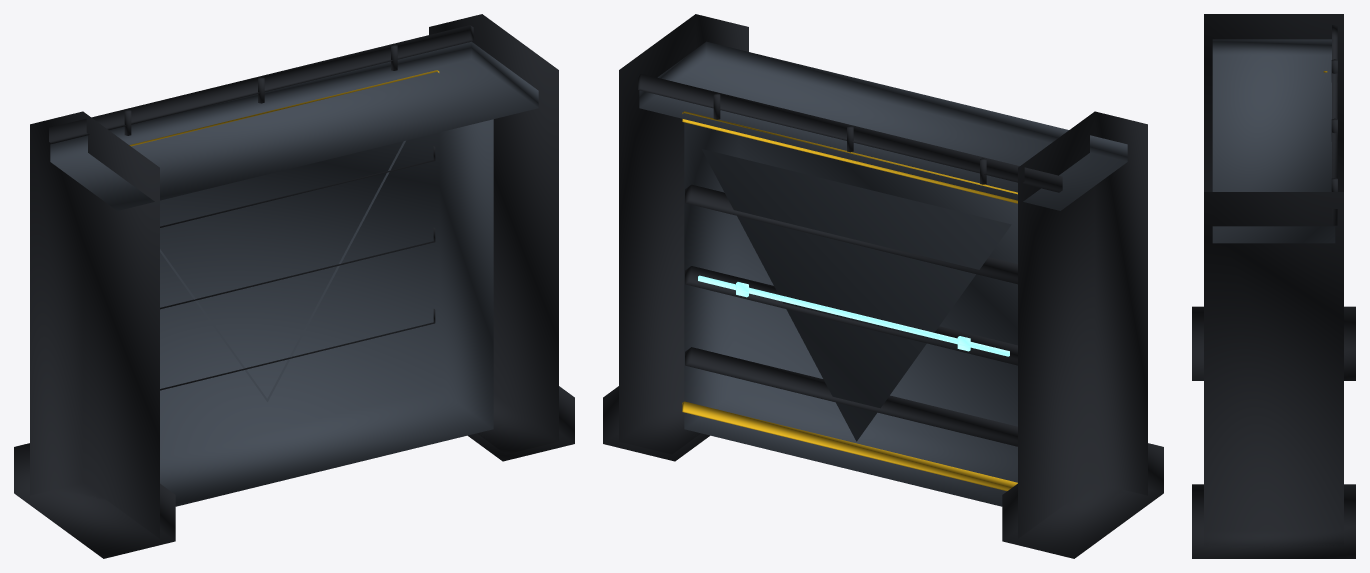
File: wall_segment.glb
The picture shows the model from 3 angles, left to right: view 1: azimuth 30°, elevation 25°; view 2: azimuth 150°, elevation 25°; view 3: azimuth 270°, elevation 25°; orthographic projection. The views are drawn at different scales.
Parts seen in each view (by area): view 1: WallMesh; view 2: WallMesh; view 3: WallMesh.
Part boxes in pixels (x1,y1,x2,y2): WallMesh: (14, 14, 574, 558); WallMesh: (603, 14, 1163, 558); WallMesh: (1192, 14, 1355, 558).
Bounding box in the file's own units: 4.25 × 3.2 × 1.4.
